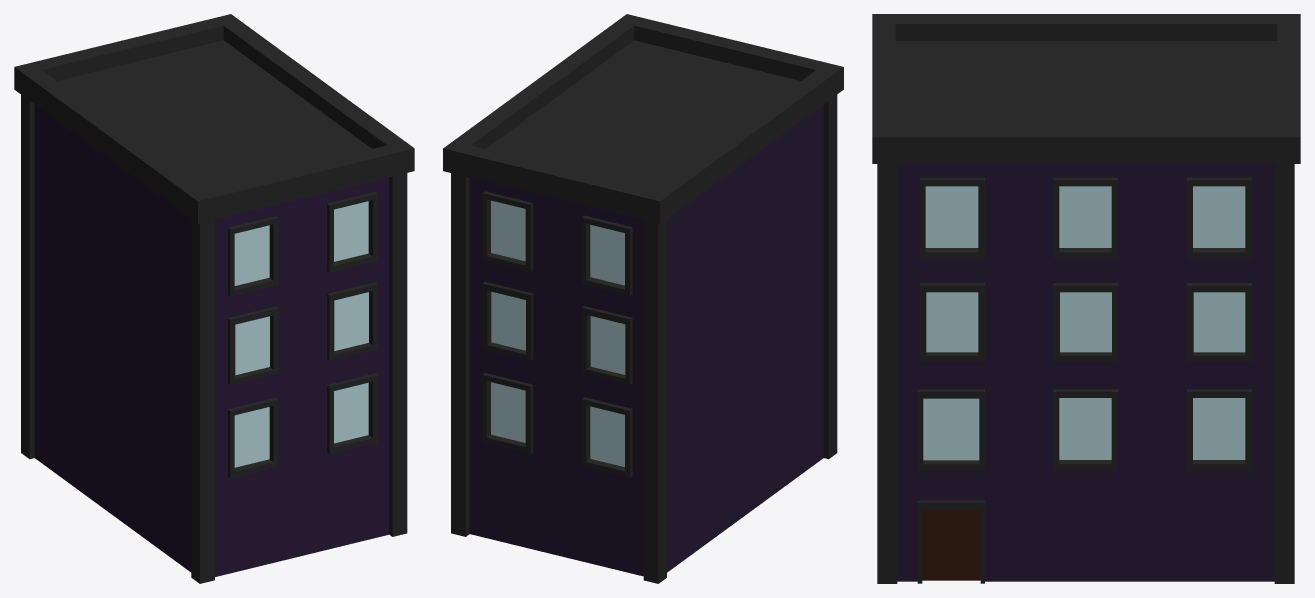
File: house_tall_wide_U001.fbx
3 renders of one model, left to right at view 1: azimuth 30°, elevation 25°; view 2: azimuth 150°, elevation 25°; view 3: azimuth 270°, elevation 25°, orthographic. The views are drawn at different scales.
Parts seen in each view (by area): view 1: Corner.026; view 2: Corner.026; view 3: Corner.026.
Part boxes in pixels (x1,y1,x2,y2): Corner.026: (14,14,414,583); Corner.026: (443,14,843,583); Corner.026: (872,14,1300,583).
Bounding box in the file's own units: 875 × 1485 × 1283.
